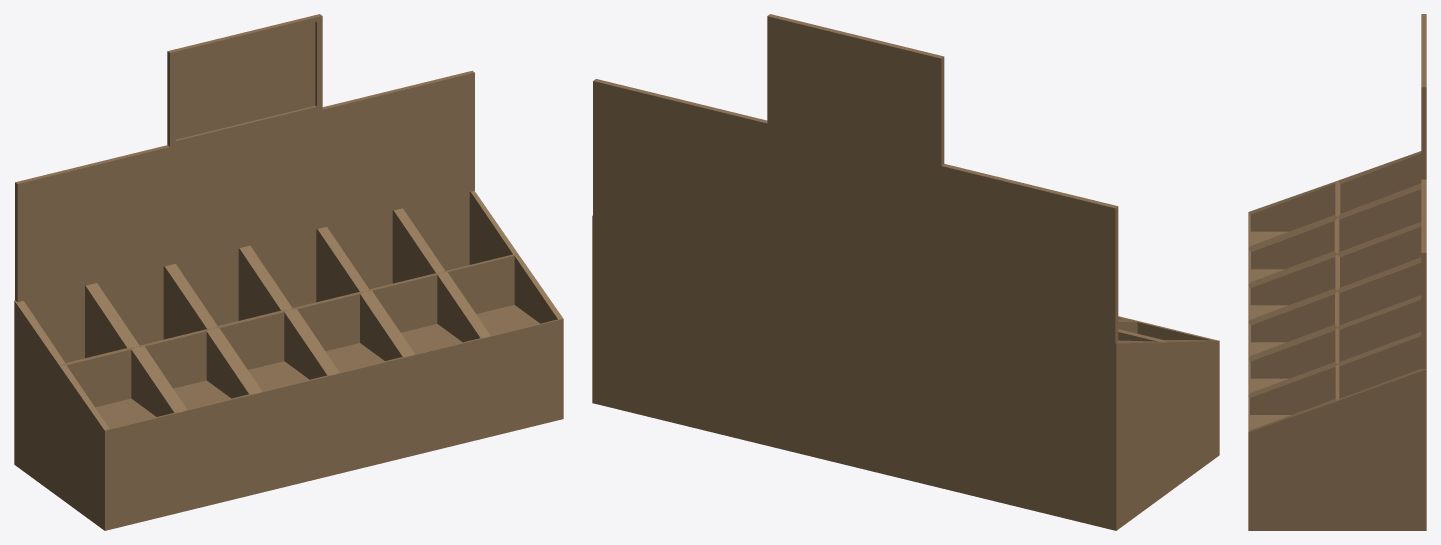
File: counter.fbx
3 views of the same model, side by side, from view 1: azimuth 30°, elevation 25°; view 2: azimuth 150°, elevation 25°; view 3: azimuth 270°, elevation 25° (orthographic). The views are drawn at different scales.
Visible parts, largest first — view 1: Cube, Cube.001; view 2: Cube, Cube.001; view 3: Cube, Cube.001.
Part boxes in pixels (bbox=[...]): Cube: bbox=[14, 191, 563, 530]; Cube.001: bbox=[15, 14, 474, 302]; Cube: bbox=[592, 215, 1219, 530]; Cube.001: bbox=[593, 14, 1118, 343]; Cube: bbox=[1248, 151, 1426, 530]; Cube.001: bbox=[1421, 14, 1426, 368].
Bounding box in the file's own units: 585 × 458 × 200.
